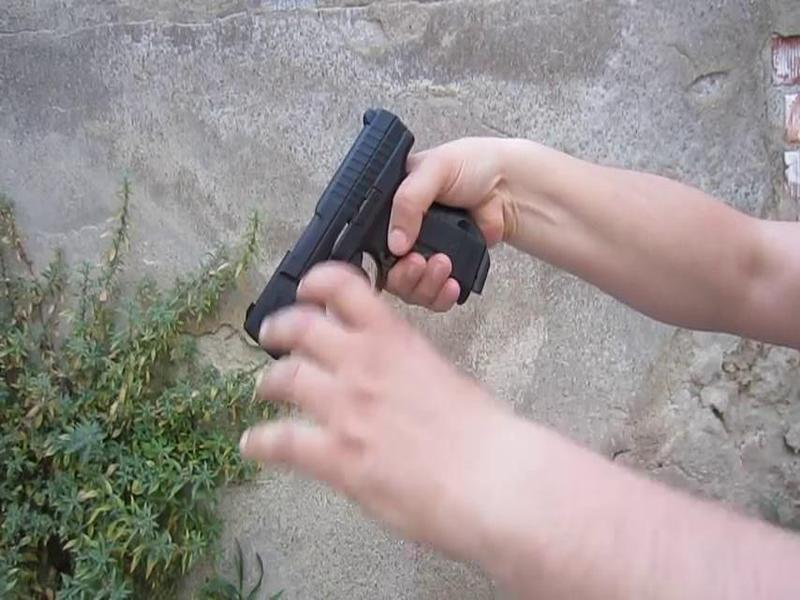Pistola: (224, 84, 513, 375)
